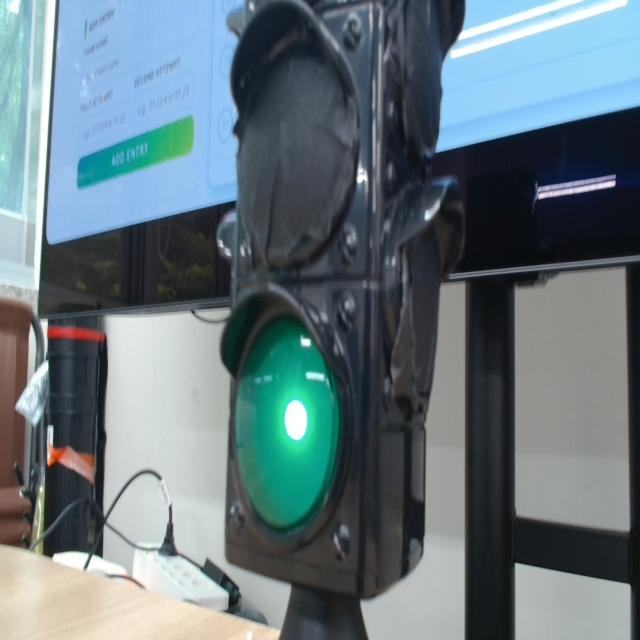green_light: (235, 317, 339, 530), (285, 400, 307, 440)
